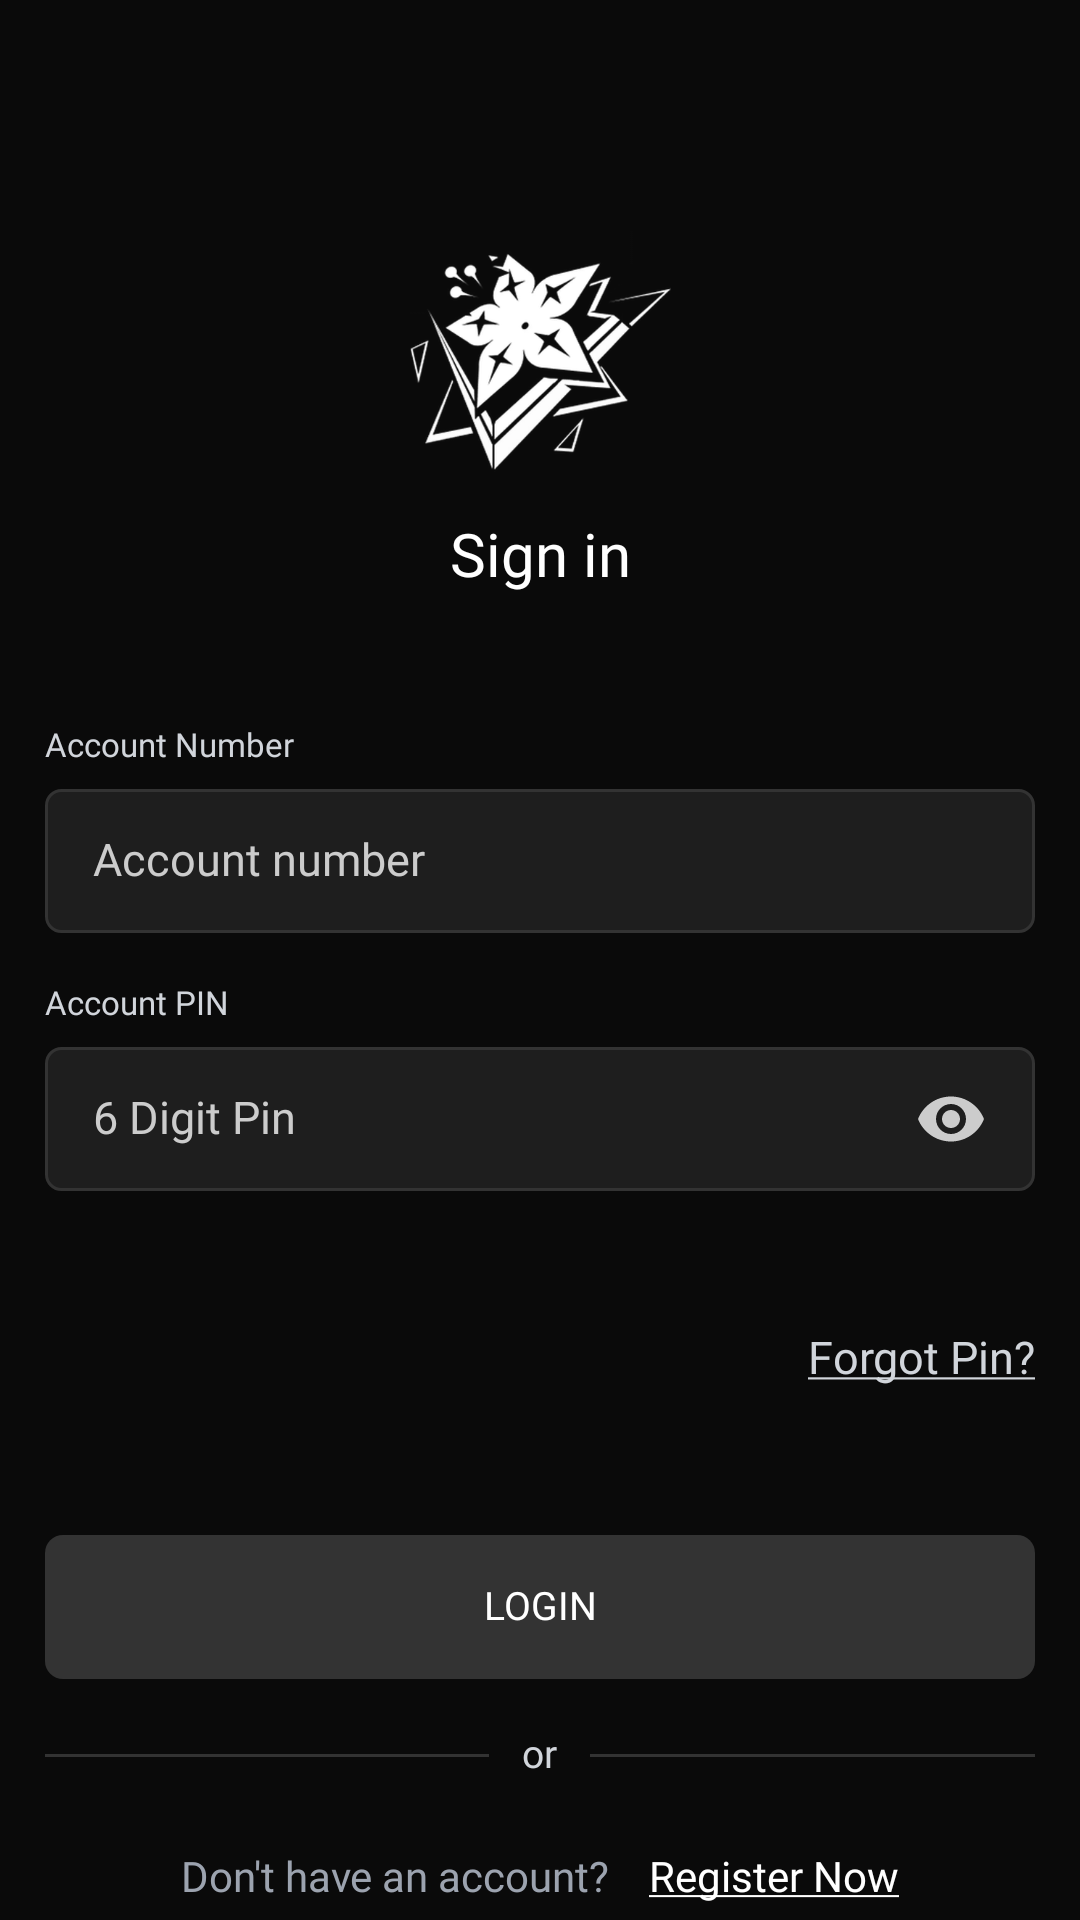

Icons on this 1080x1920 Android screen, each with the point to tap as point (x, y):
Toggle PIN visibility: point (951, 1119)
